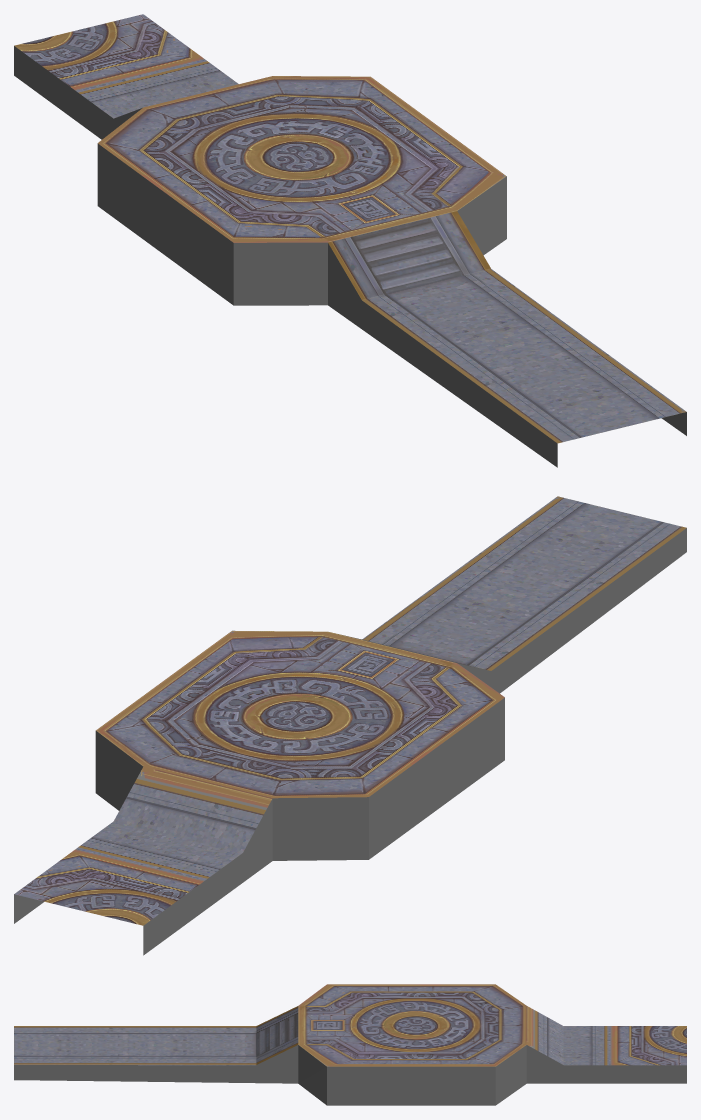
Rendered from fb_lianhuachi.FBX.
3 views of the same model, one above another, from view 1: azimuth 30°, elevation 25°; view 2: azimuth 150°, elevation 25°; view 3: azimuth 270°, elevation 25° (orthographic). The views are drawn at different scales.
Parts seen in each view (by area): view 1: Cylinder01; view 2: Cylinder01; view 3: Cylinder01.
Part boxes in pixels (left/top/right/bottom): Cylinder01: left=14, top=14, right=686, bottom=467; Cylinder01: left=14, top=496, right=686, bottom=955; Cylinder01: left=14, top=984, right=686, bottom=1105.
Size of the model in its own units: 19.18 by 4.21 by 66.13.
Materials: 1 (1 with a texture image).
